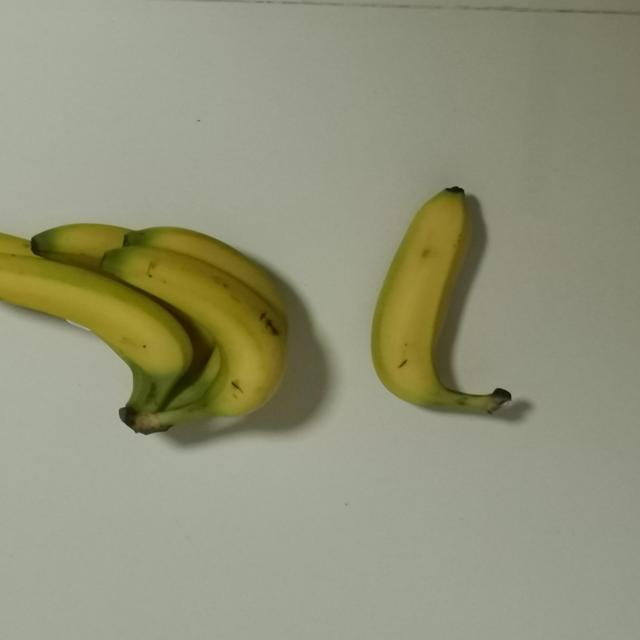banana: (0, 210, 311, 450), (366, 178, 520, 429)
